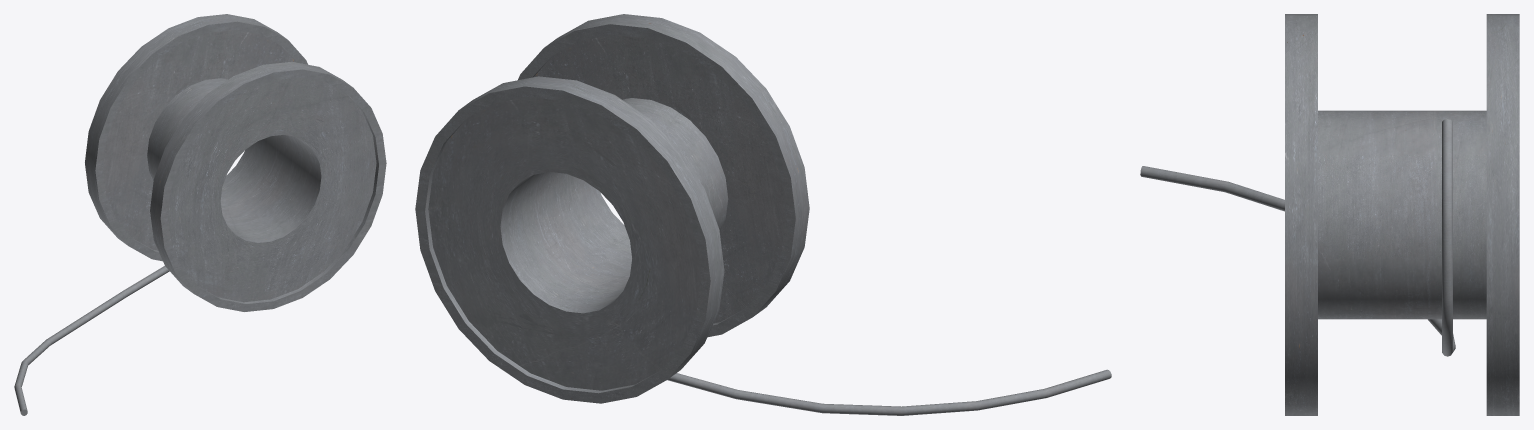
Rendered from cable-drum.fbx.
3 views of the same model, side by side, from view 1: azimuth 30°, elevation 25°; view 2: azimuth 150°, elevation 25°; view 3: azimuth 270°, elevation 25° (orthographic). The views are drawn at different scales.
Parts seen in each view (by area): view 1: Mesh; view 2: Mesh; view 3: Mesh.
Boxes of the visible parts, x1,y1,x2,y2 form: Mesh: (14, 14, 386, 415); Mesh: (415, 14, 1111, 415); Mesh: (1140, 14, 1519, 415).
Size of the model in its own units: 73.6 by 40.84 by 37.97.
